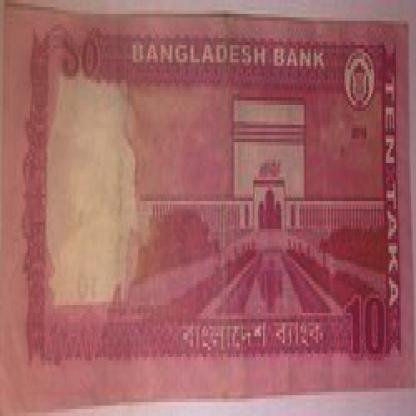Ten Taka: (338, 288, 389, 367), (60, 31, 106, 87)
